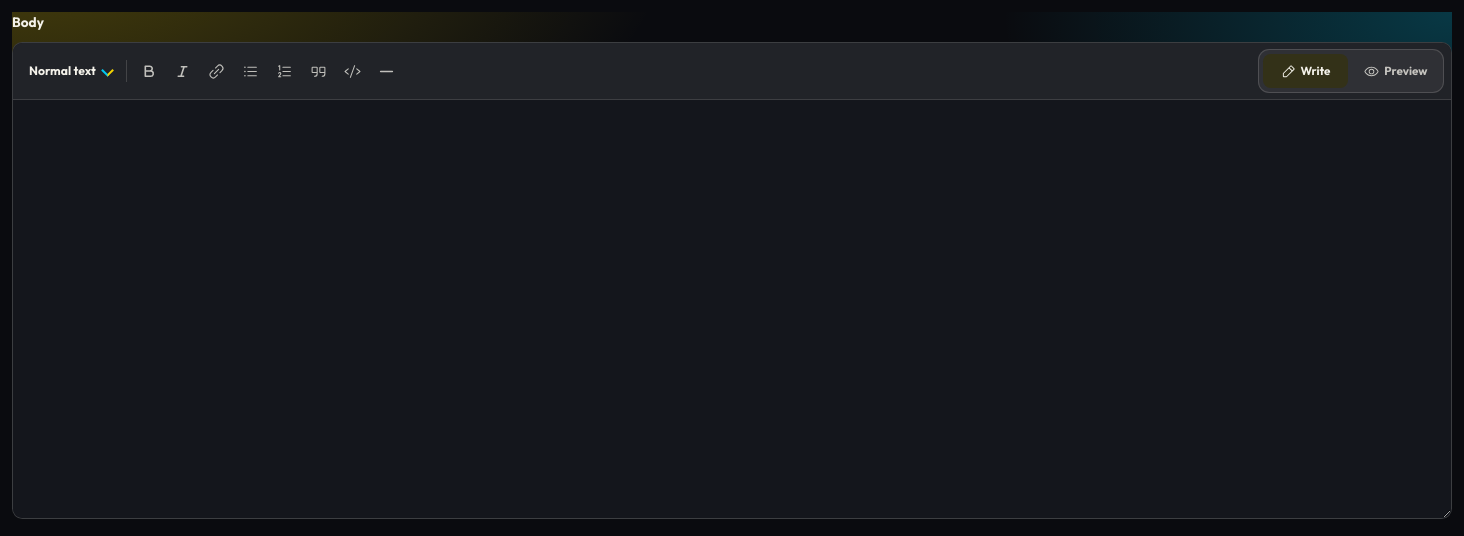
Test: says so when there is nothing to preview
Click the tab "Preview" at (1396, 71), box [1353,54,1439,88]
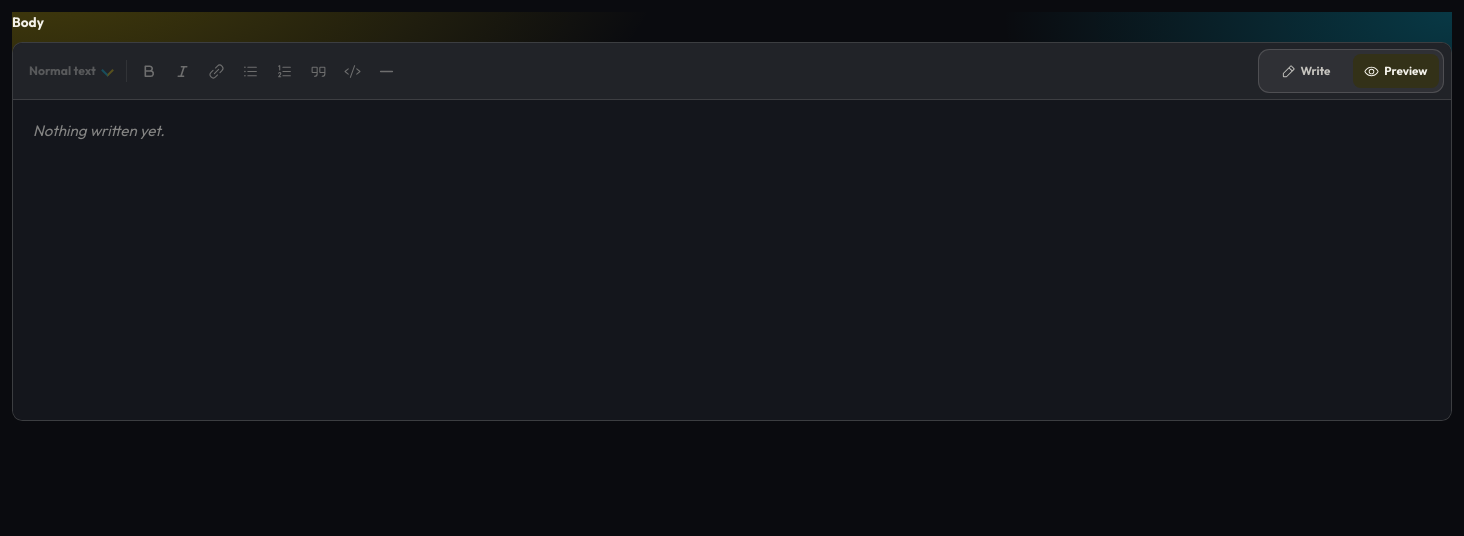
Check: the text "Nothing written yet." is shown, box [33,121,165,140]
